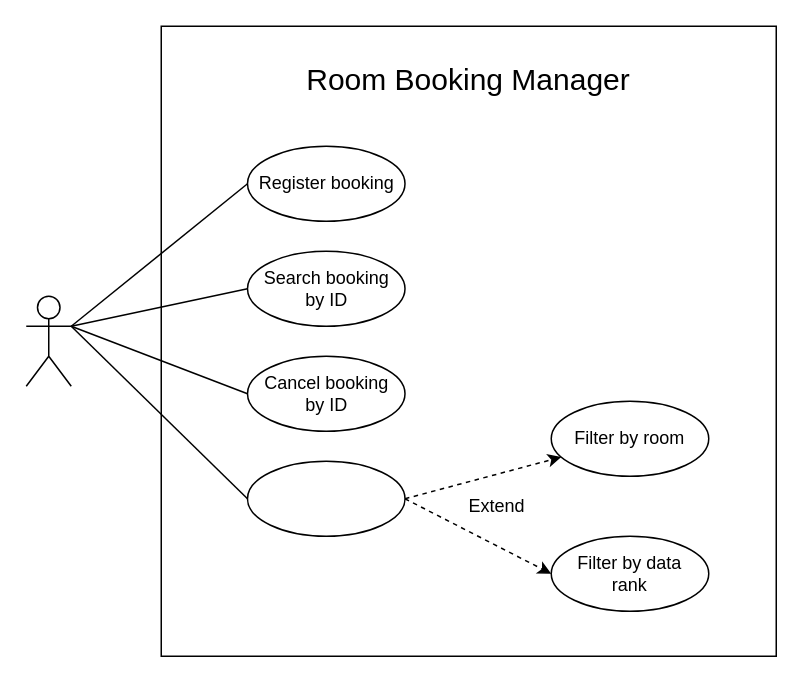
This 803x683 diagram has some shape labels left out. The shapes that lost their labels are listed below. From the top down, each one's box as (x1, y1, x2, y2) in pixels, then its label:
(25, 295, 71, 386): User
(246, 460, 405, 536): View bookings by rank of data
